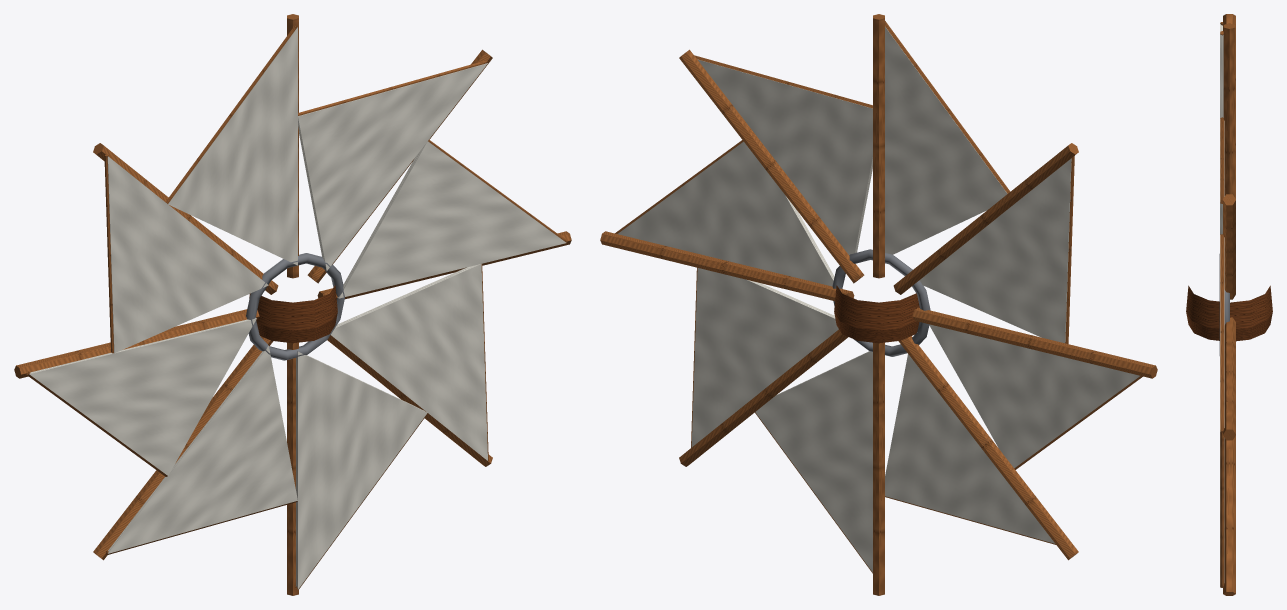
File: greek-island-village-and-harbour-windmill-sail-cross-8b5f7669__37118.glb
The picture shows the model from 3 angles, left to right: view 1: azimuth 30°, elevation 25°; view 2: azimuth 150°, elevation 25°; view 3: azimuth 270°, elevation 25°; orthographic projection. The views are drawn at different scales.
Parts seen in each view (by area): view 1: sail-cross/canvas, sail-cross/timber, sail-cross/oak, sail-cross/iron; view 2: sail-cross/canvas, sail-cross/timber, sail-cross/oak, sail-cross/iron; view 3: sail-cross/timber, sail-cross/oak, sail-cross/canvas, sail-cross/iron.
Boxes of the visible parts, x1=… form: sail-cross/canvas: x1=29, y1=27, x2=566, y2=589; sail-cross/timber: x1=14, y1=14, x2=571, y2=595; sail-cross/oak: x1=249, y1=285, x2=337, y2=343; sail-cross/iron: x1=246, y1=253, x2=344, y2=360; sail-cross/canvas: x1=618, y1=27, x2=1139, y2=572; sail-cross/timber: x1=600, y1=14, x2=1157, y2=595; sail-cross/oak: x1=834, y1=285, x2=919, y2=343; sail-cross/iron: x1=832, y1=249, x2=930, y2=356; sail-cross/timber: x1=1220, y1=14, x2=1235, y2=595; sail-cross/oak: x1=1186, y1=285, x2=1272, y2=341; sail-cross/canvas: x1=1220, y1=23, x2=1224, y2=586; sail-cross/iron: x1=1219, y1=254, x2=1229, y2=355.
Size of the model in its own units: 5.1 by 5.1 by 0.72.
4 materials, 3 textured.
